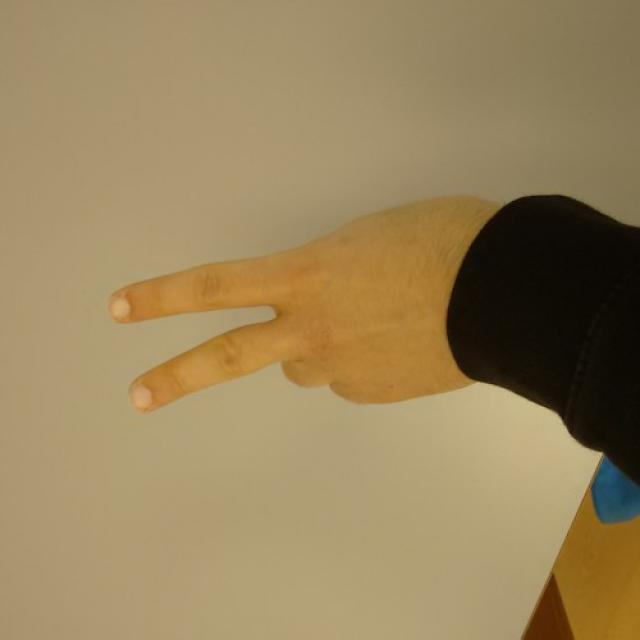scissors: (106, 196, 460, 422)
